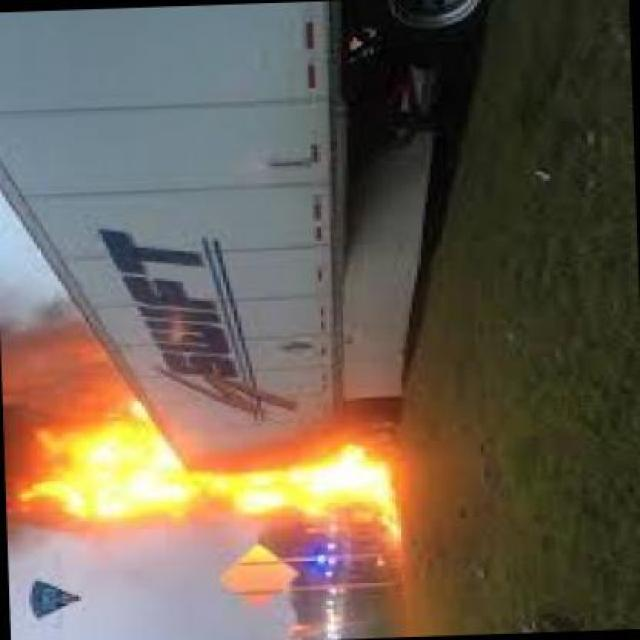Fire: (35, 408, 406, 540)
Smoke: (0, 310, 130, 408)
